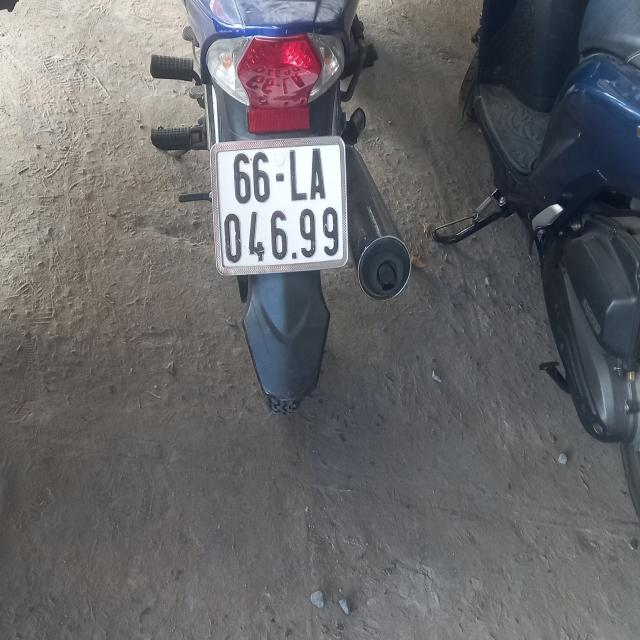0: (224, 212, 241, 264)
4: (248, 210, 264, 264)
6: (251, 152, 271, 203), (234, 155, 252, 207), (270, 209, 288, 261)
9: (299, 207, 315, 258), (322, 207, 339, 255)
A: (310, 148, 326, 200)
L: (288, 149, 308, 201)
